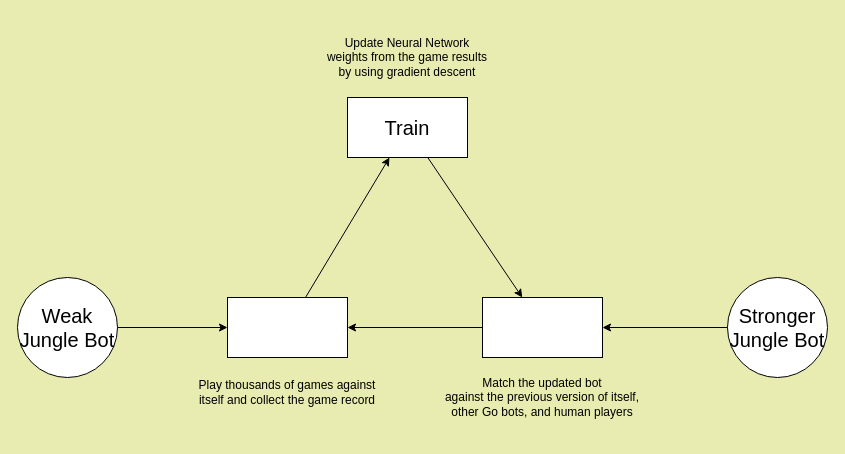
Some shapes in this 845 by 454 pixel diagram are drawn without their labels. The shapes that lost their labels are listed below. From the top down, each one's box as (x1, y1, x2, y2) in pixels, then its label:
(226, 296, 348, 358): Collect Experience
(482, 296, 602, 358): Evaluate
